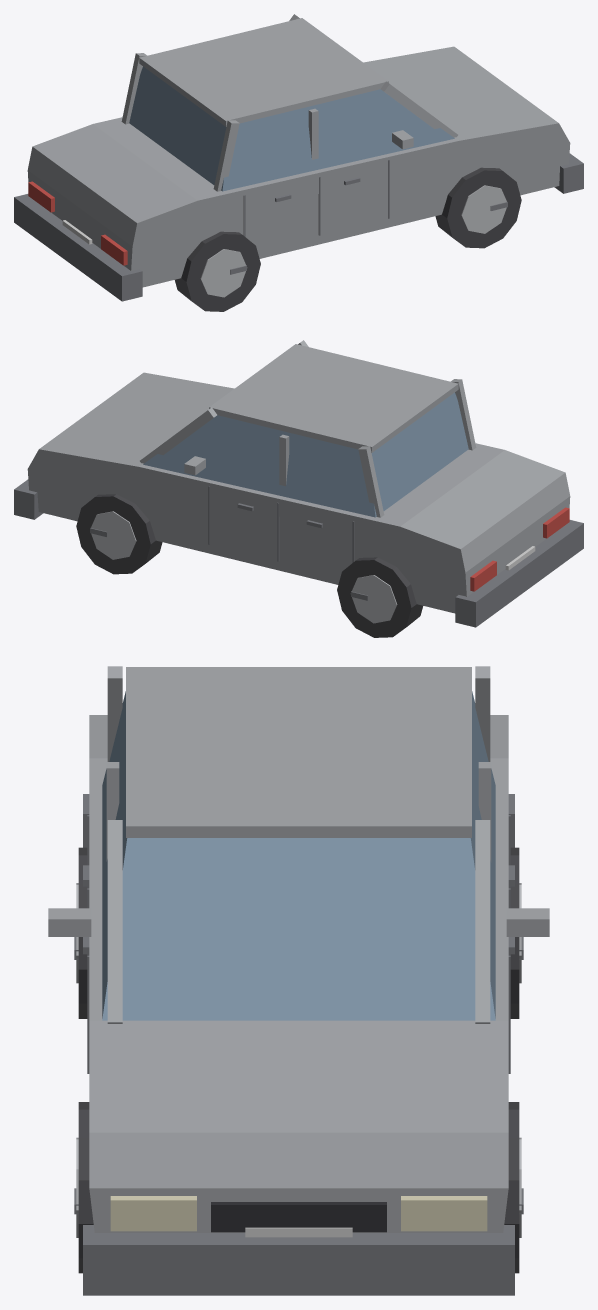
The model's file is Araba_SUV_Gri.glb.
The picture shows the model from 3 angles, top to bottom: view 1: azimuth 30°, elevation 25°; view 2: azimuth 150°, elevation 25°; view 3: azimuth 270°, elevation 25°; orthographic projection. The views are drawn at different scales.
Visible parts, largest first — view 1: Araba_SUV_Gri, Wheel_0.005, Wheel_2.005; view 2: Araba_SUV_Gri, Wheel_3.005, Wheel_1.005; view 3: Araba_SUV_Gri, Wheel_0.005, Wheel_1.005, Wheel_2.005, Wheel_3.005.
Boxes of the visible parts, bbox=[...] form: Araba_SUV_Gri: bbox=[14, 14, 583, 301]; Wheel_0.005: bbox=[435, 167, 521, 248]; Wheel_2.005: bbox=[175, 231, 260, 311]; Araba_SUV_Gri: bbox=[14, 340, 583, 627]; Wheel_3.005: bbox=[337, 557, 422, 637]; Wheel_1.005: bbox=[76, 494, 162, 574]; Araba_SUV_Gri: bbox=[48, 666, 549, 1295]; Wheel_0.005: bbox=[74, 1102, 93, 1273]; Wheel_1.005: bbox=[504, 1102, 523, 1273]; Wheel_2.005: bbox=[74, 847, 87, 1018]; Wheel_3.005: bbox=[510, 847, 523, 1018].
Size of the model in its own units: 4.96 by 1.85 by 2.33.
